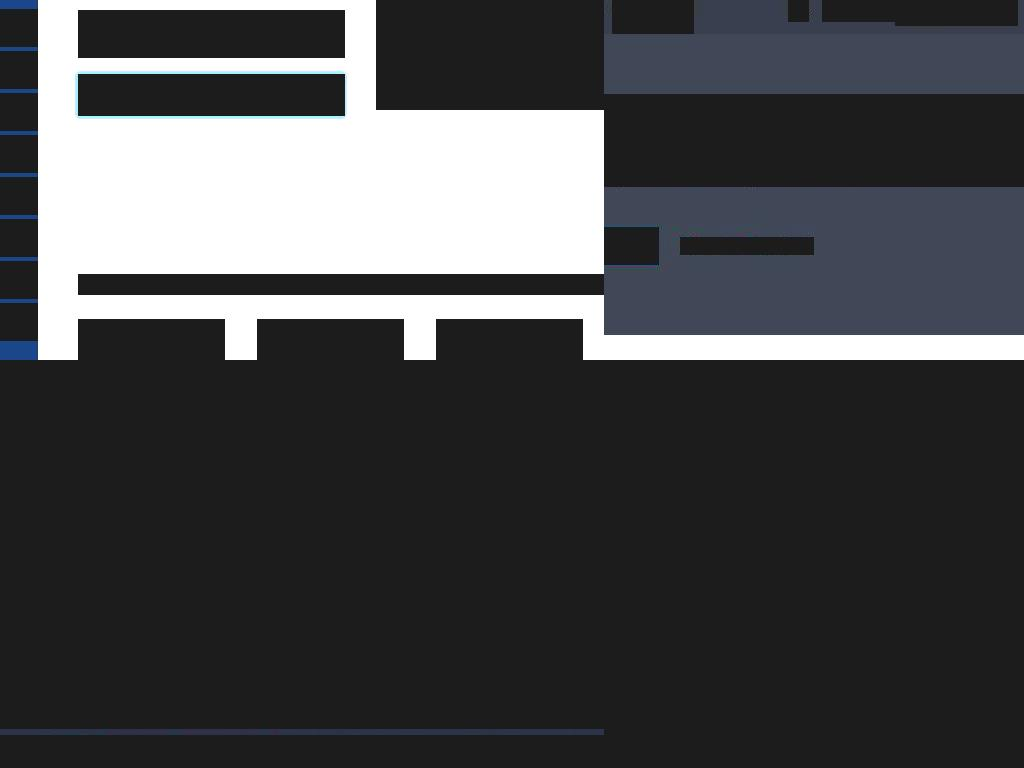button: (632, 404, 1024, 720), (274, 737, 575, 768), (0, 737, 267, 768), (78, 319, 225, 360), (257, 319, 404, 360), (436, 319, 583, 360), (0, 581, 81, 629), (895, 0, 1018, 26), (680, 237, 814, 255), (604, 227, 659, 265), (822, 0, 896, 22)
field: (78, 74, 345, 116), (788, 0, 809, 22)
heading: (0, 429, 579, 482), (604, 94, 1024, 145), (78, 10, 345, 58), (78, 274, 604, 295)
image: (0, 360, 604, 768), (0, 360, 604, 735), (0, 360, 604, 729), (632, 404, 1024, 720), (376, 0, 604, 110), (274, 737, 575, 768), (0, 737, 267, 768), (905, 0, 930, 21), (807, 239, 814, 251)
link: (604, 360, 1024, 768), (0, 509, 223, 529), (612, 0, 694, 34), (0, 453, 49, 473)
text: (604, 145, 1024, 187), (0, 360, 288, 417), (0, 545, 288, 565), (0, 433, 237, 453), (0, 489, 140, 509), (680, 237, 798, 254), (937, 1, 1008, 17)
